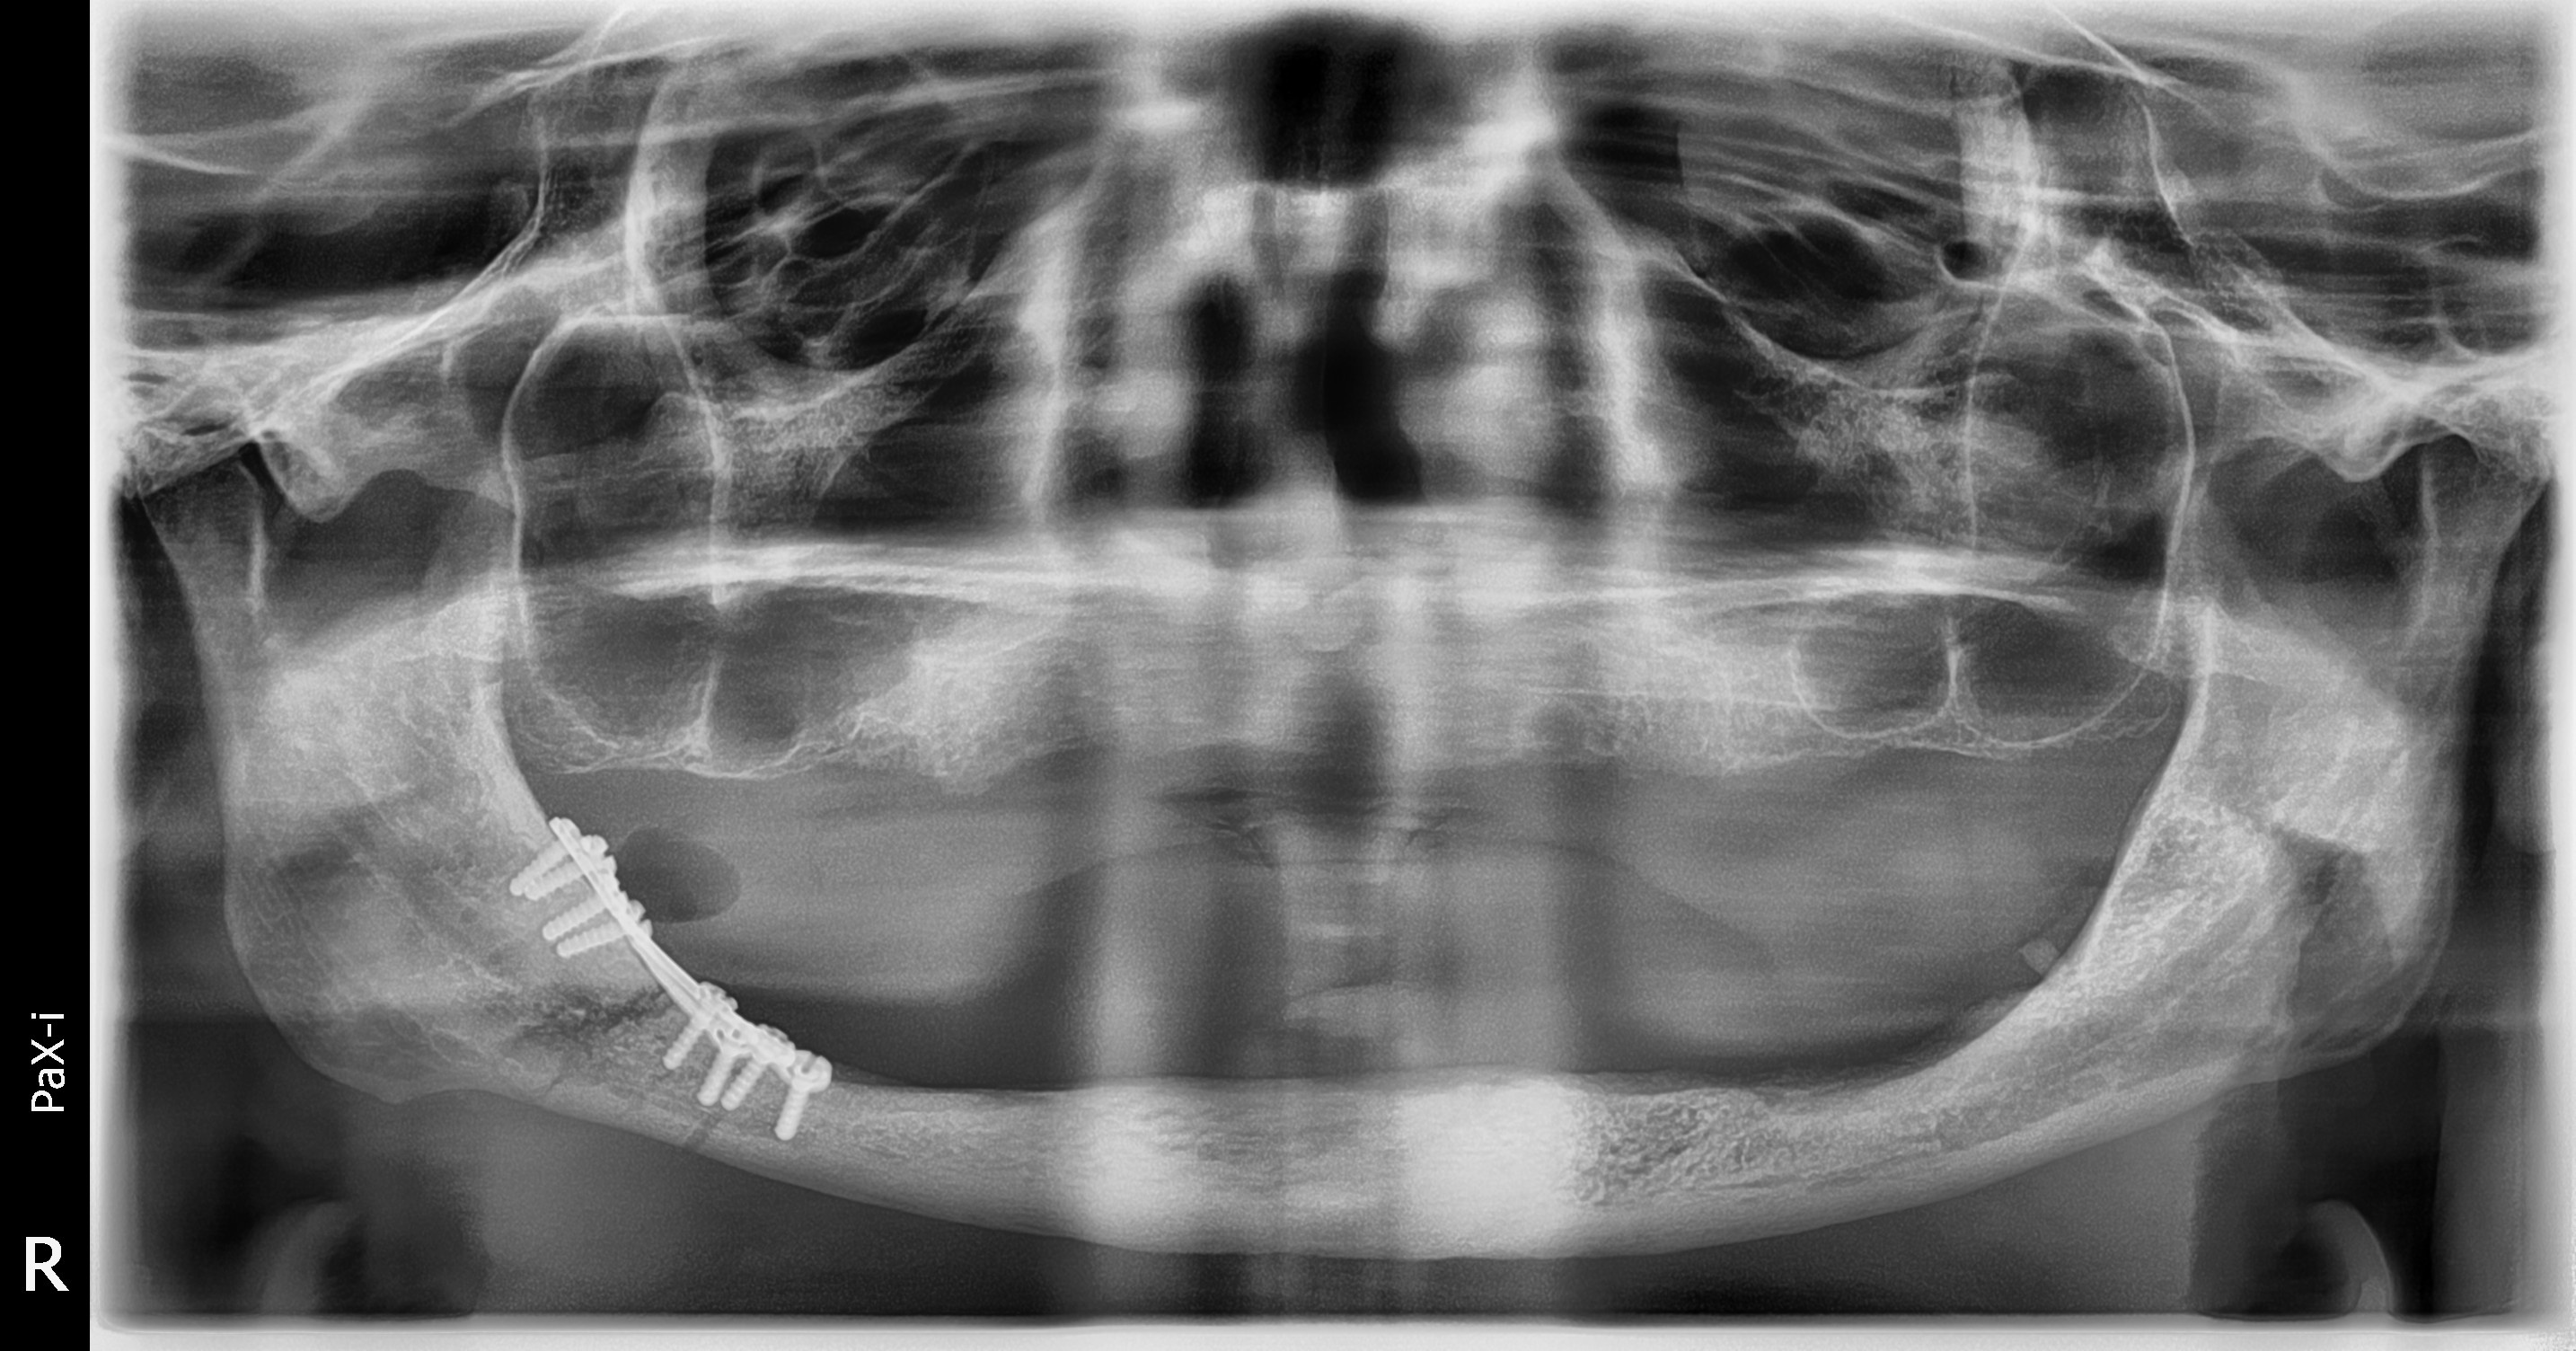SRD: (63, 201, 913, 1351)
